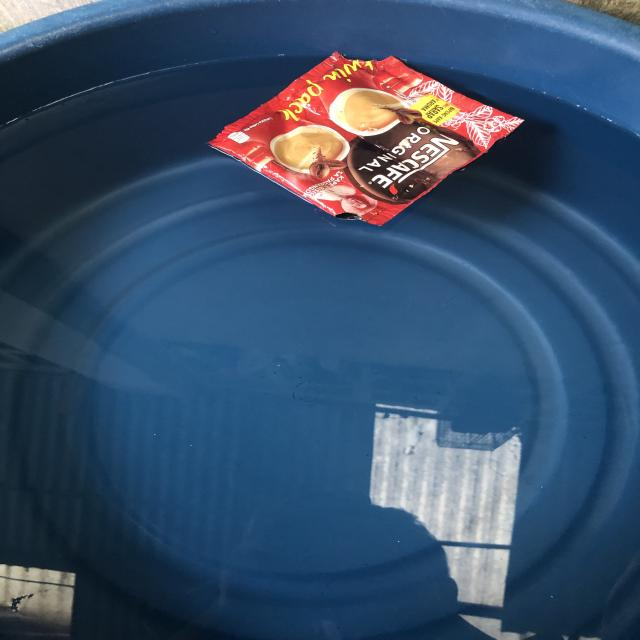Plastic Wrapper: (178, 34, 531, 222)
